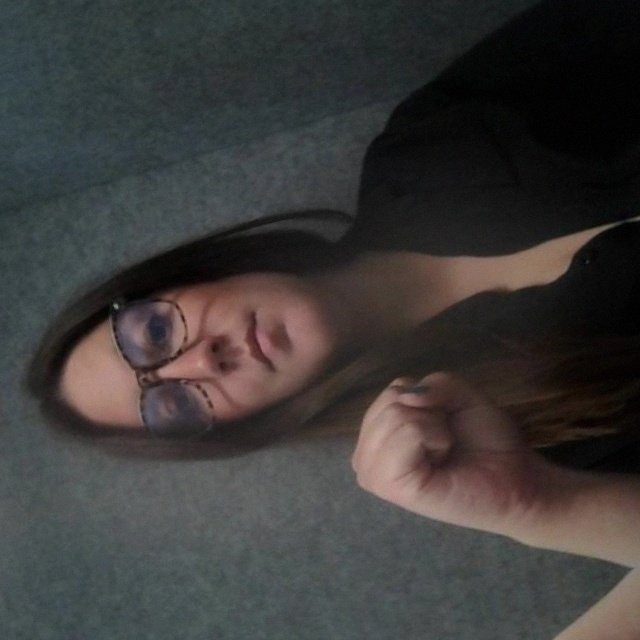Rock: (314, 337, 555, 564)
